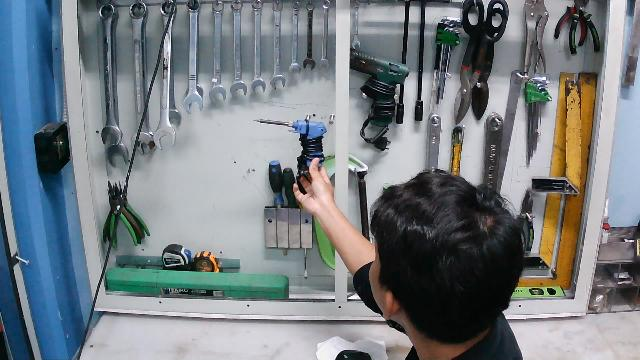solder_electrical: (251, 111, 328, 180)
